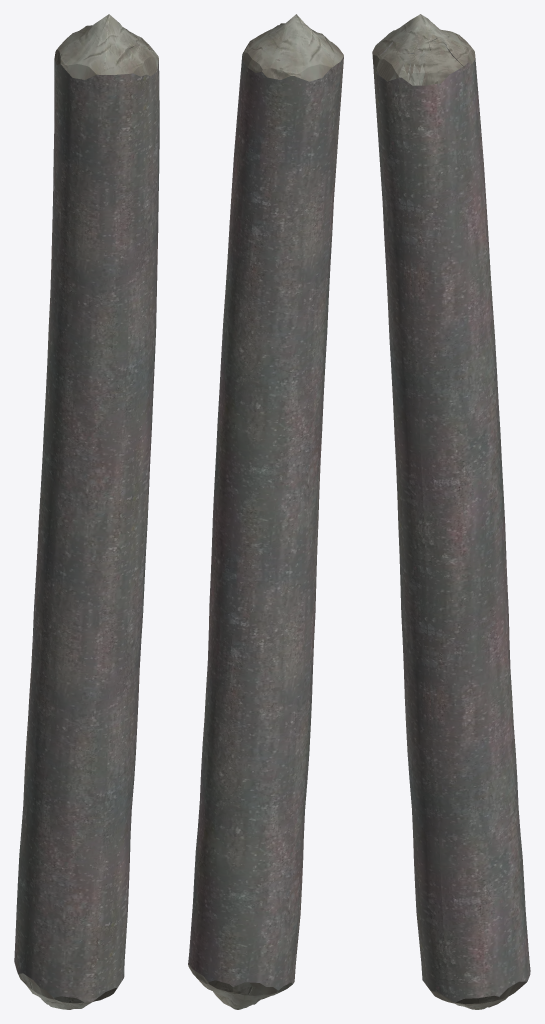
The picture shows the model from 3 angles, left to right: view 1: azimuth 90°, elevation 25°; view 2: azimuth 150°, elevation 25°; view 3: azimuth 330°, elevation 25°; orthographic projection. The views are drawn at different scales.
Parts seen in each view (by area): view 1: SM_GF_Ash_Tree_01_half_mid_LOD0; view 2: SM_GF_Ash_Tree_01_half_mid_LOD0; view 3: SM_GF_Ash_Tree_01_half_mid_LOD0.
Part boxes in pixels (<box>): SM_GF_Ash_Tree_01_half_mid_LOD0: <box>14,14,159,1009</box>; SM_GF_Ash_Tree_01_half_mid_LOD0: <box>188,14,343,1009</box>; SM_GF_Ash_Tree_01_half_mid_LOD0: <box>372,14,530,1009</box>.
Size of the model in its own units: 0.6203 by 4.74 by 0.616.
Materials: 1 (1 with a texture image).
